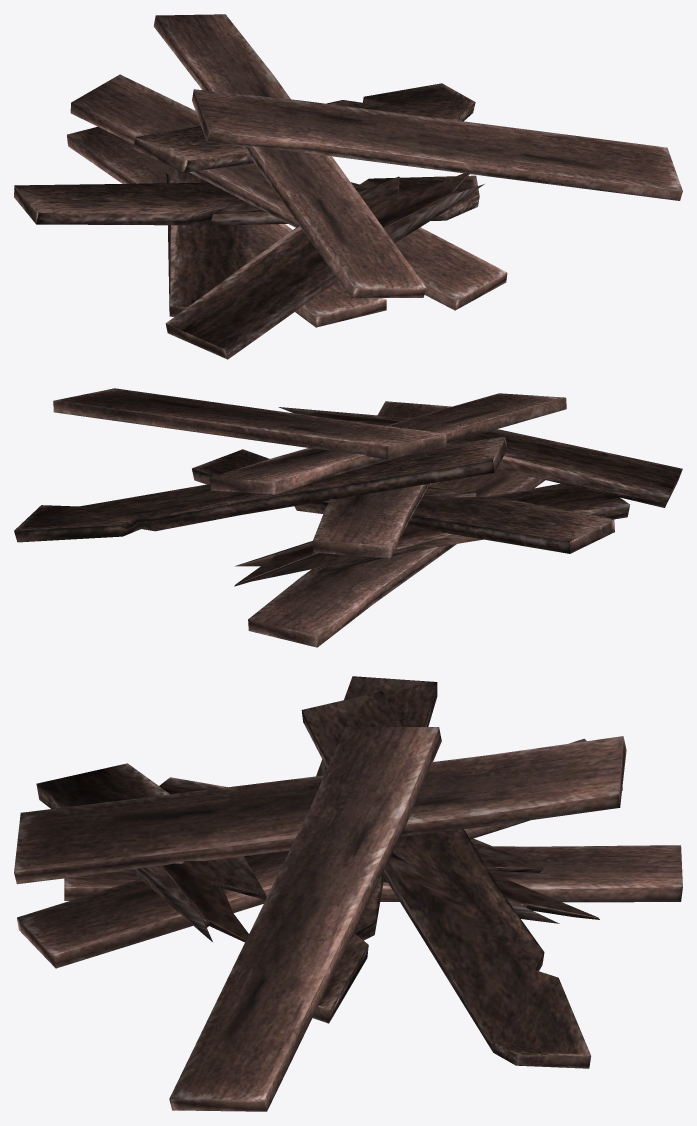
The model's file is wooden_board_pile01.dae.
The picture shows the model from 3 angles, top to bottom: view 1: azimuth 30°, elevation 25°; view 2: azimuth 150°, elevation 25°; view 3: azimuth 270°, elevation 25°; orthographic projection. The views are drawn at different scales.
Parts seen in each view (by area): view 1: polySurface9, polySurface8, polySurface7, polySurface5, polySurface3, polySurface2, polySurface6, polySurface4; view 2: polySurface6, polySurface9, polySurface2, polySurface3, polySurface8, polySurface7, polySurface5, polySurface4; view 3: polySurface9, polySurface8, polySurface6, polySurface2, polySurface5, polySurface7, polySurface3, polySurface4.
Boxes of the visible parts, left/top/right/bottom form: polySurface9: left=192, top=89, right=682, bottom=200; polySurface8: left=153, top=14, right=426, bottom=298; polySurface7: left=165, top=172, right=484, bottom=359; polySurface5: left=70, top=74, right=507, bottom=310; polySurface3: left=14, top=175, right=479, bottom=225; polySurface2: left=67, top=126, right=386, bottom=327; polySurface6: left=133, top=83, right=475, bottom=172; polySurface4: left=166, top=168, right=252, bottom=316; polySurface6: left=14, top=436, right=507, bottom=542; polySurface9: left=53, top=388, right=446, bottom=459; polySurface2: left=248, top=468, right=545, bottom=647; polySurface3: left=192, top=449, right=614, bottom=553; polySurface8: left=209, top=393, right=566, bottom=494; polySurface7: left=278, top=407, right=682, bottom=507; polySurface5: left=312, top=401, right=451, bottom=558; polySurface4: left=234, top=483, right=629, bottom=586; polySurface9: left=169, top=727, right=441, bottom=1111; polySurface8: left=14, top=736, right=626, bottom=884; polySurface6: left=301, top=691, right=591, bottom=1068; polySurface2: left=64, top=845, right=682, bottom=902; polySurface5: left=17, top=738, right=622, bottom=968; polySurface7: left=36, top=763, right=266, bottom=942; polySurface3: left=312, top=676, right=437, bottom=1023; polySurface4: left=159, top=777, right=599, bottom=923.
Size of the model in its own units: 2.06 by 0.4516 by 1.62.
